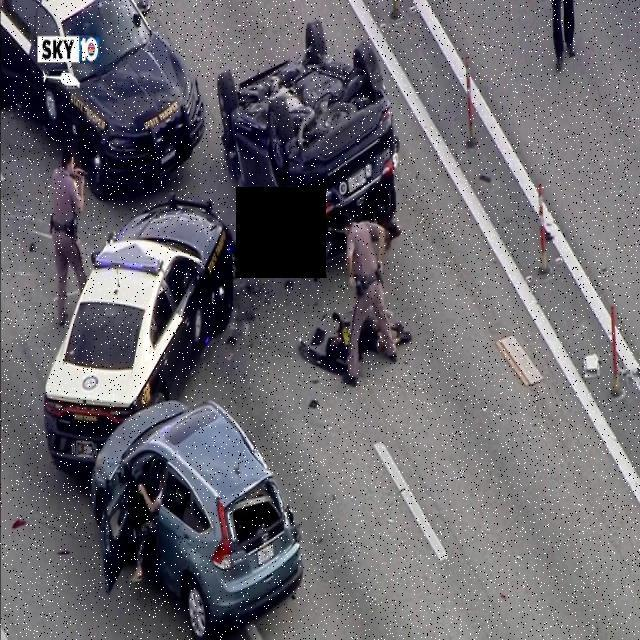severe: (213, 7, 403, 262)
